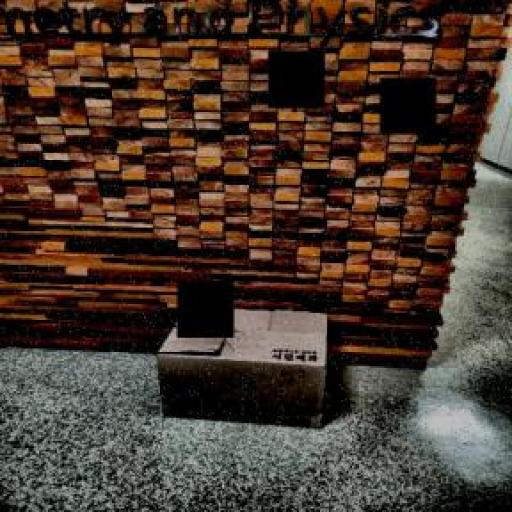box: (143, 293, 341, 432)
